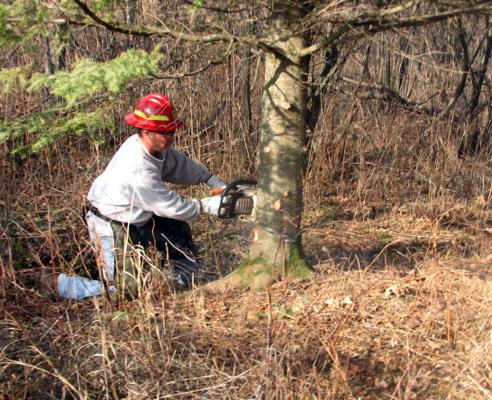person: (40, 92, 238, 303)
